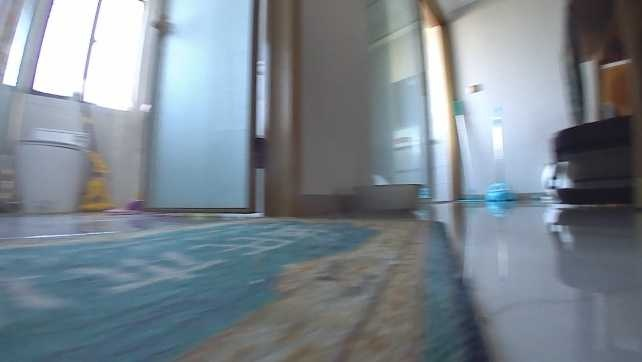blanket: (0, 211, 492, 360)
door_anno: (142, 0, 274, 214)
toilet: (9, 124, 94, 214)
